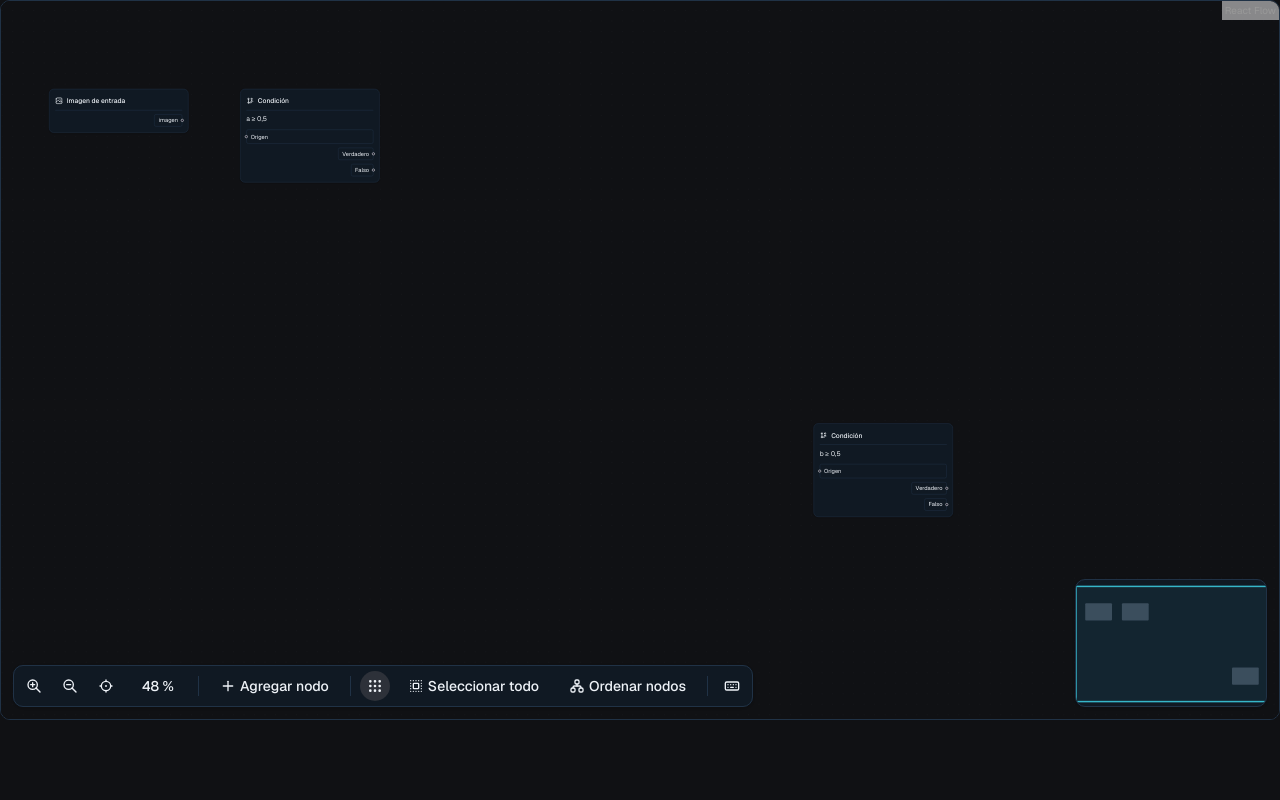
Test: workflow canvas keyboard shortcuts › opens the same list with the Atajos de teclado button of the canvas bar
Click the button named "Atajos de teclado": (732, 686) [716,670,748,702]
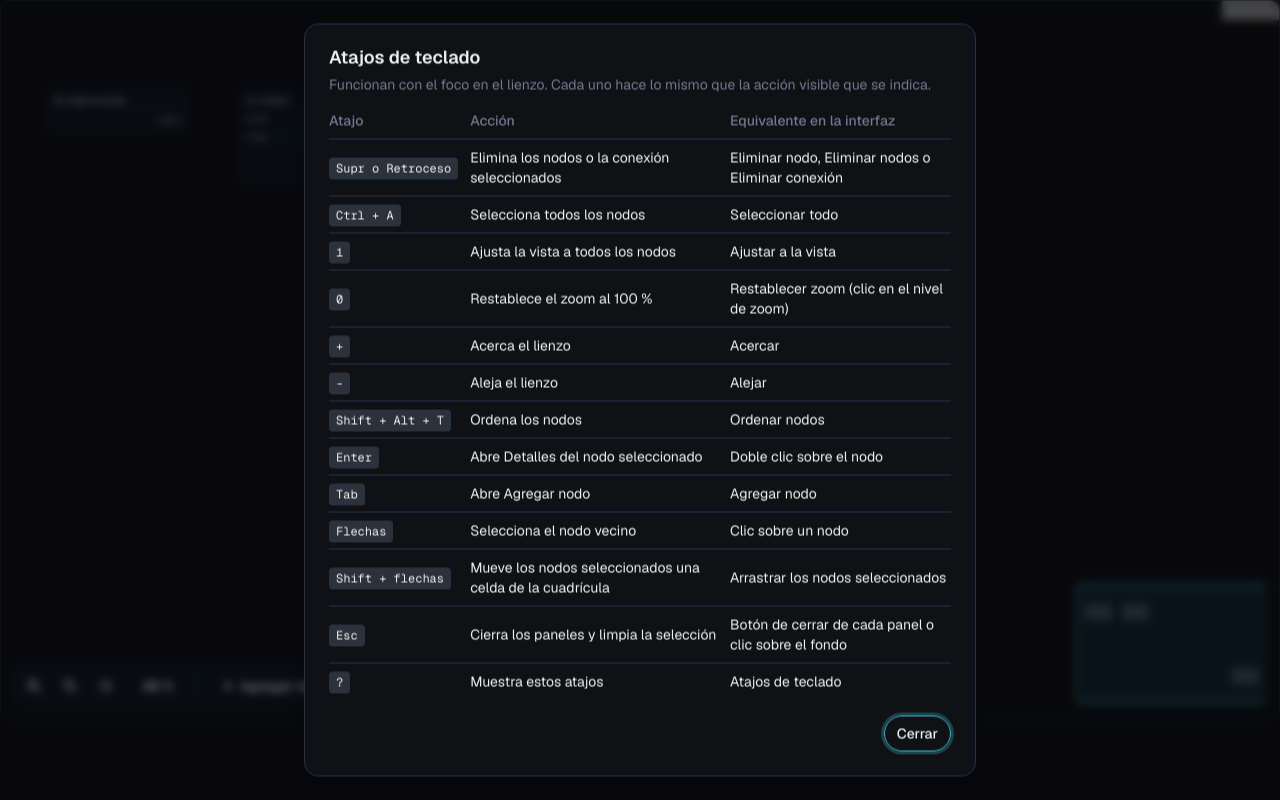
Now the text "Ordenar nodos" is shown, box [730,401,951,438]
Now the text "Eliminar nodo, Eliminar nodos o Eliminar conexión" is shown, box [730,139,951,196]
